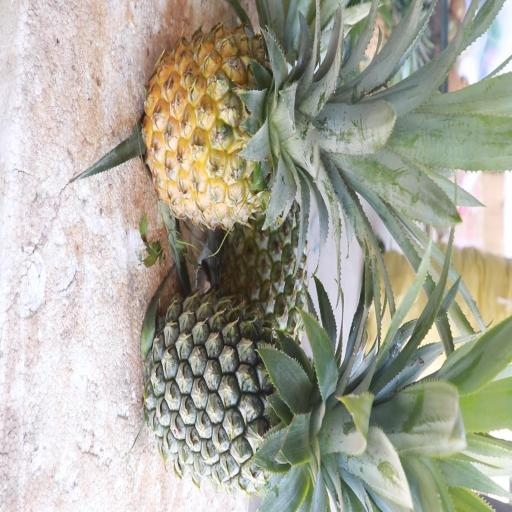Pineapple - v8 v1: (136, 14, 434, 240)
